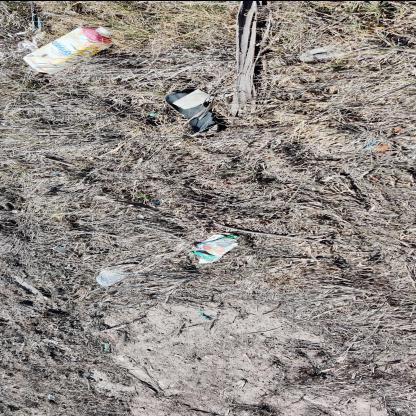karton: (22, 25, 113, 73), (189, 233, 239, 262), (172, 88, 214, 108)
